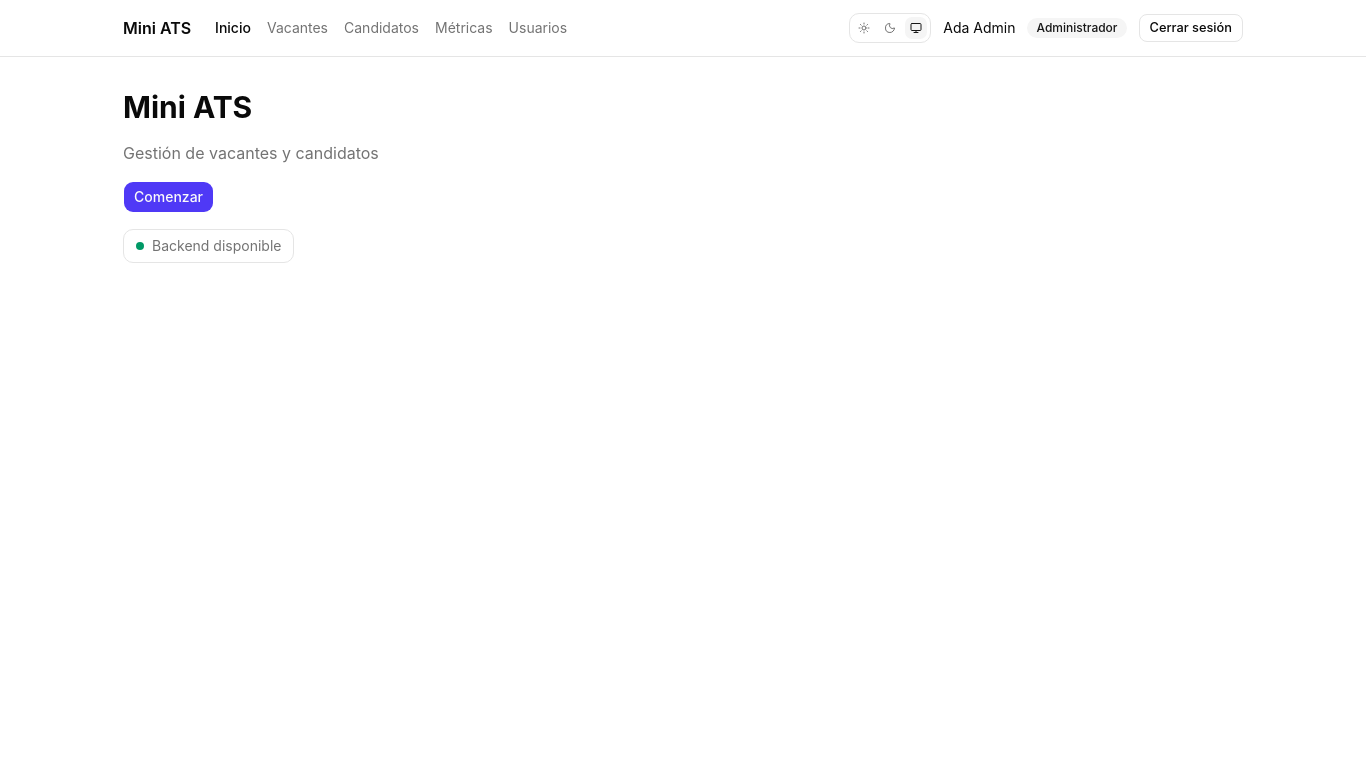
app router › logs out to /login and removes the stored token
This screenshot has width=1366, height=768.
Click the button "Cerrar sesión": {"x": 1191, "y": 28} [1138,14,1243,42]
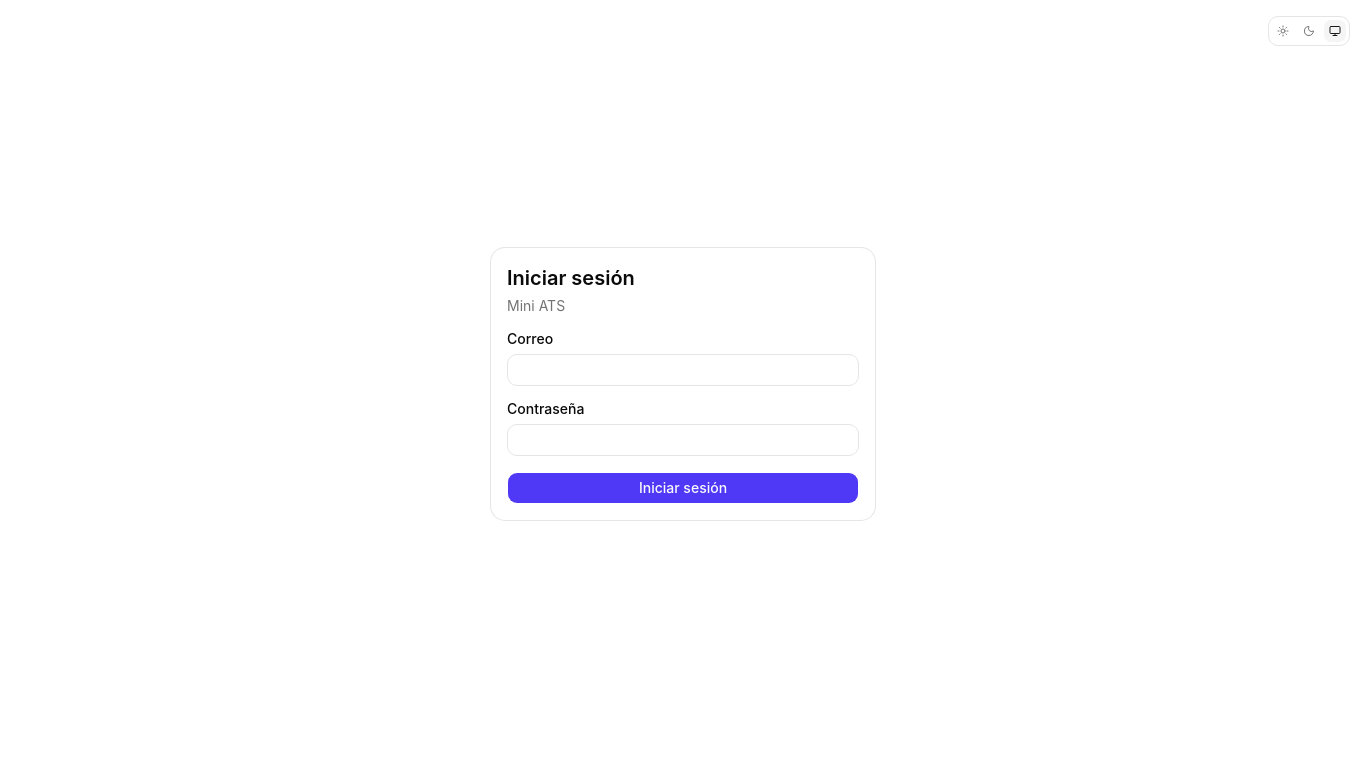
expect the heading "Iniciar sesión" is shown: met, box [507,266,635,290]
